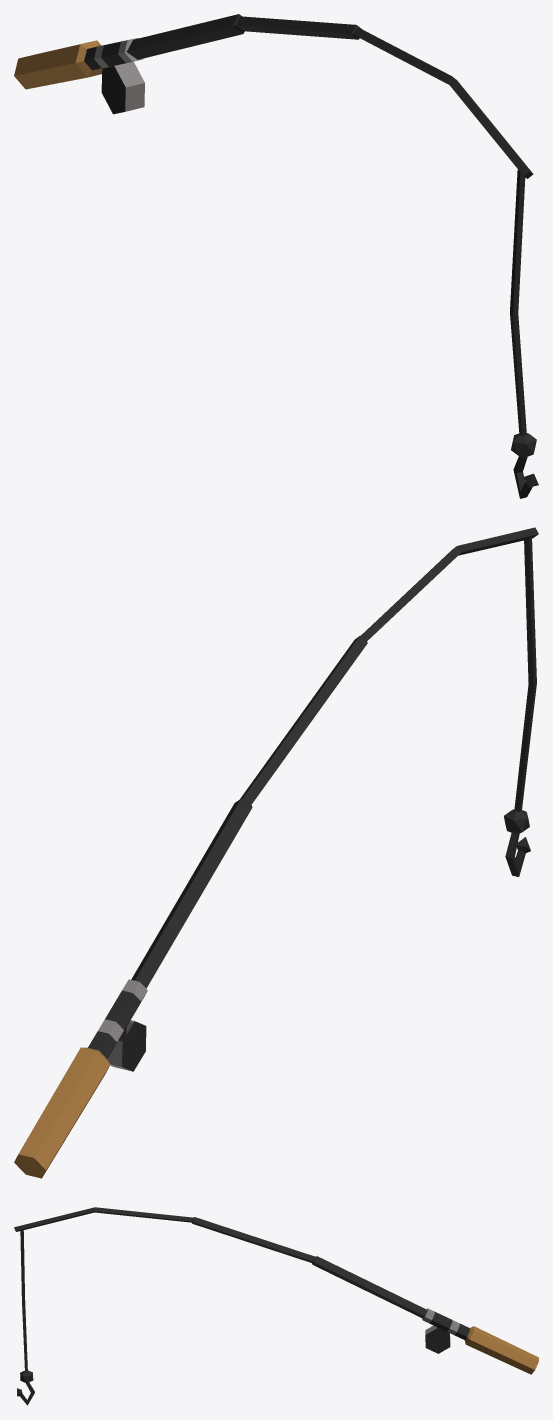
The model's file is tools_fishing-pole.fbx.
The picture shows the model from 3 angles, top to bottom: view 1: azimuth 30°, elevation 25°; view 2: azimuth 150°, elevation 25°; view 3: azimuth 270°, elevation 25°; orthographic projection. The views are drawn at different scales.
Visible parts, largest first — view 1: tools_fishing_pole; view 2: tools_fishing_pole; view 3: tools_fishing_pole.
Part boxes in pixels (x1,y1,x2,y2): tools_fishing_pole: [14, 14, 538, 498]; tools_fishing_pole: [14, 527, 538, 1178]; tools_fishing_pole: [14, 1207, 538, 1405].
Bounding box in the file's own units: 7.89 × 82.37 × 200.
